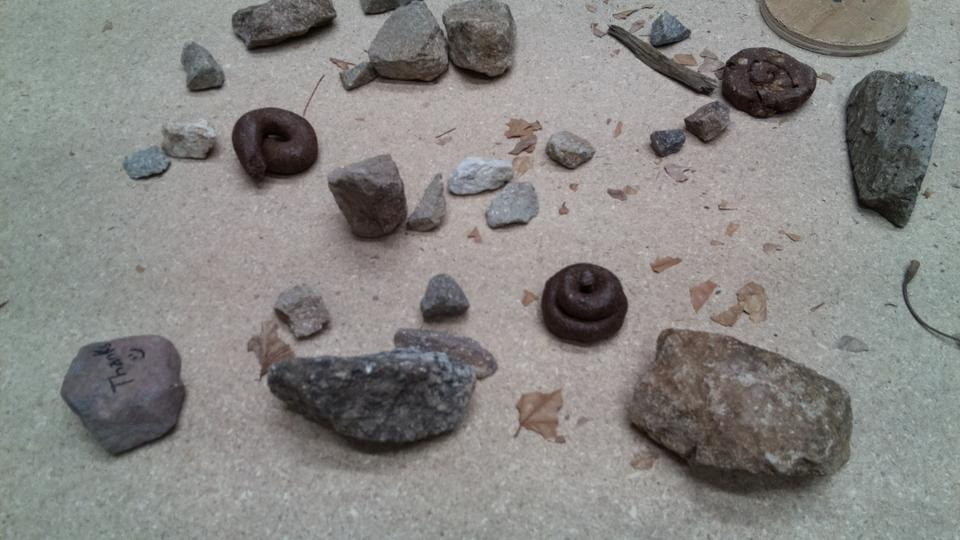poop: (537, 261, 629, 347), (721, 46, 818, 122), (231, 106, 320, 183)
